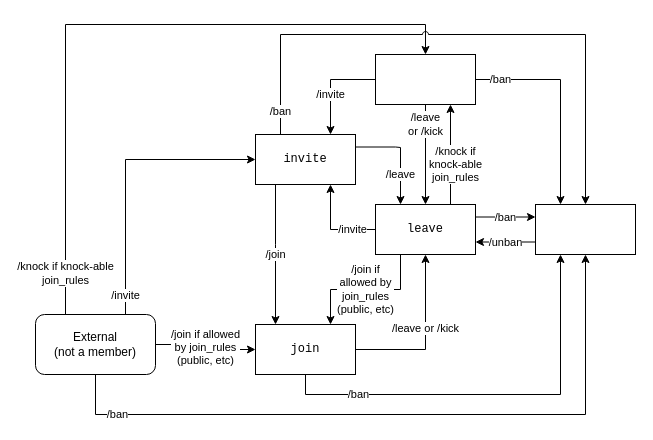
The diagram is 653 pixels wide and 440 high, and some of its shapes have lost their labels. Here are the shapes that lost their labels. From the top down, the box of each, then its label:
(374, 54, 476, 104): knock
(534, 204, 636, 254): ban
